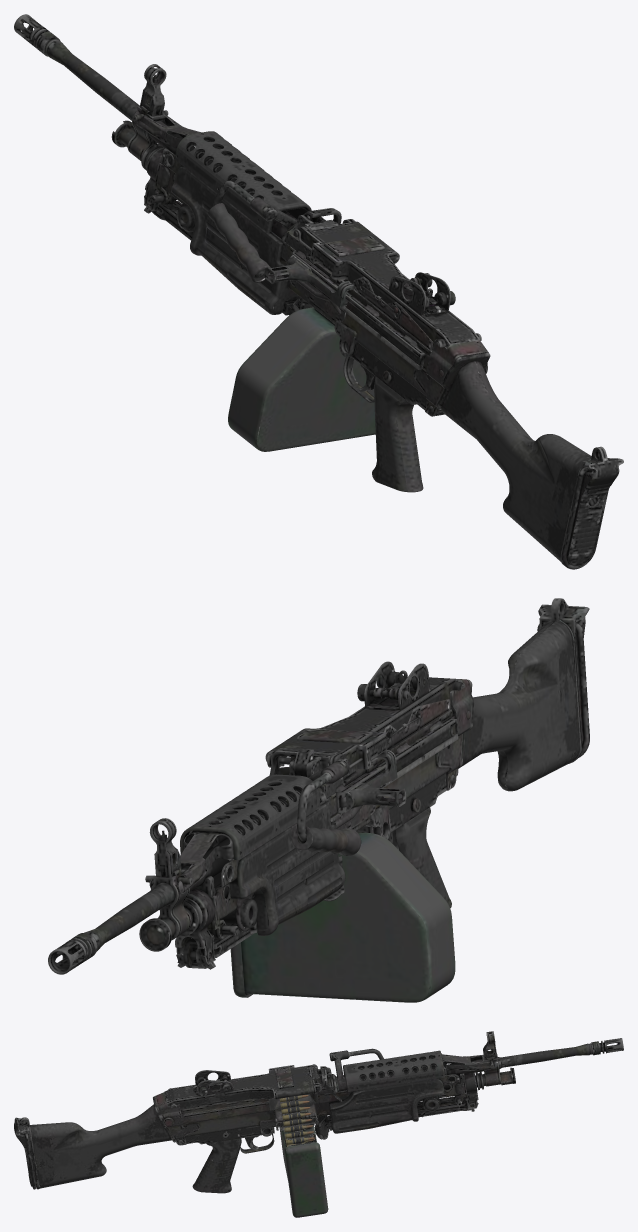
3 views of the same model, one above another, from view 1: azimuth 30°, elevation 25°; view 2: azimuth 150°, elevation 25°; view 3: azimuth 270°, elevation 25° (orthographic). The views are drawn at different scales.
Parts seen in each view (by area): view 1: p_m249; view 2: p_m249; view 3: p_m249.
Boxes of the visible parts, x1=… form: p_m249: x1=14, y1=14, x2=623, y2=569; p_m249: x1=48, y1=598, x2=589, y2=1002; p_m249: x1=14, y1=1031, x2=623, y2=1217.
Size of the model in its own units: 0.321 by 0.4806 by 1.63.
Materials: 1 (1 with a texture image).
